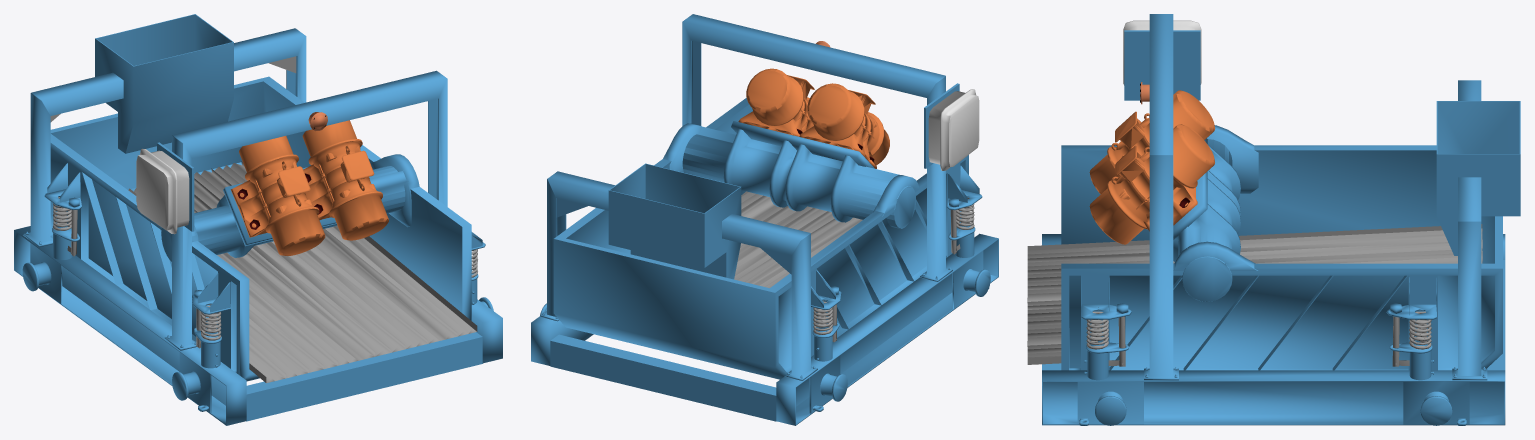
File: Shale Shaker.fbx
3 views of the same model, side by side, from view 1: azimuth 30°, elevation 25°; view 2: azimuth 150°, elevation 25°; view 3: azimuth 270°, elevation 25° (orthographic). The views are drawn at different scales.
Visible parts, largest first — view 1: Chassis, Bay, Platform, Cylinder006, Cylinder003, Holder, FuseBox, Cylinder005, Cylinder004, Spring001; view 2: Chassis, Bay, Holder, Platform, Cylinder006, FuseBox, Cylinder003, Cylinder005, Cylinder004, Spring002; view 3: Bay, Chassis, Platform, Holder, Cylinder003, Cylinder006, FuseBox, Cylinder004, Spring003, Spring004.
Boxes of the visible parts, x1,y1,x2,y2 form: Chassis: (14, 14, 502, 425); Bay: (44, 76, 485, 381); Platform: (128, 161, 477, 383); Cylinder006: (239, 136, 325, 255); Cylinder003: (302, 120, 388, 240); Holder: (161, 154, 419, 261); FuseBox: (136, 148, 189, 234); Cylinder005: (230, 180, 268, 237); Cylinder004: (303, 164, 332, 220); Spring001: (200, 304, 221, 340); Chassis: (531, 14, 998, 425); Bay: (553, 98, 982, 379); Holder: (663, 121, 919, 228); Platform: (734, 191, 971, 288); Cylinder006: (807, 83, 889, 165); FuseBox: (928, 89, 979, 170); Cylinder003: (746, 68, 814, 135); Cylinder005: (799, 126, 876, 168); Cylinder004: (738, 111, 807, 136); Spring002: (813, 300, 832, 334); Bay: (1061, 145, 1502, 370); Chassis: (1042, 14, 1520, 425); Platform: (1027, 224, 1482, 364); Holder: (1173, 125, 1258, 301); Cylinder003: (1089, 124, 1214, 244); Cylinder006: (1089, 90, 1215, 194); FuseBox: (1123, 20, 1201, 85); Cylinder004: (1143, 185, 1197, 231); Spring003: (1086, 307, 1108, 349); Spring004: (1409, 311, 1431, 349).
Bounding box in the file's own units: 253 × 191 × 317.
